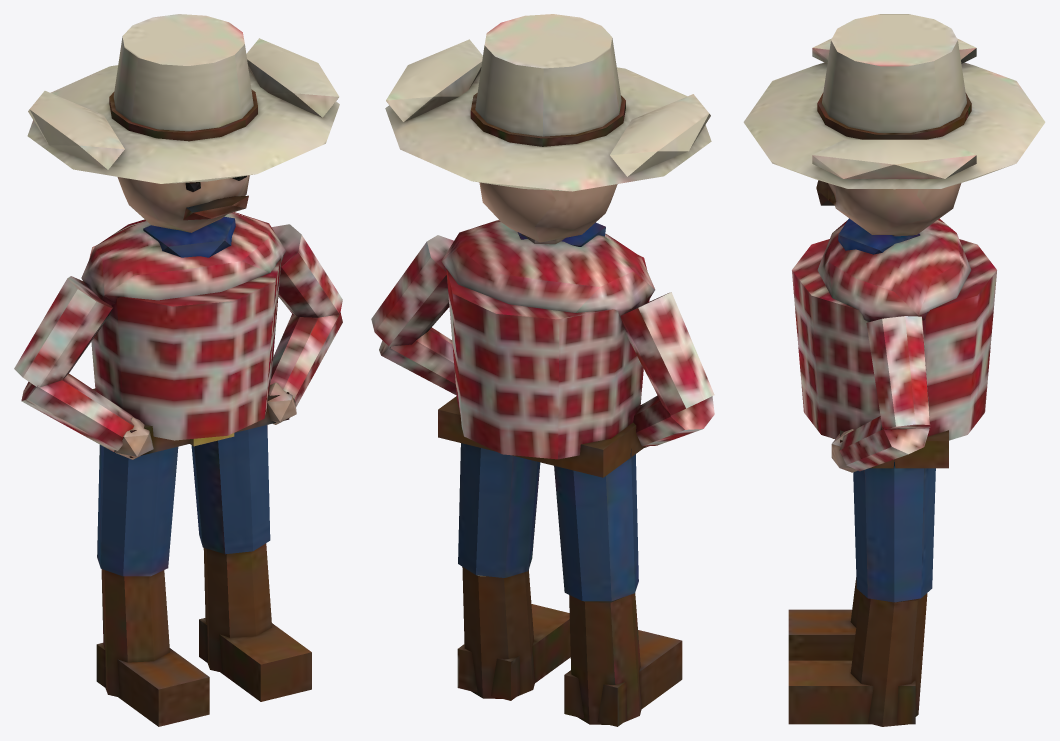
The model's file is bailarin_linea.glb.
3 views of the same model, side by side, from view 1: azimuth 30°, elevation 25°; view 2: azimuth 150°, elevation 25°; view 3: azimuth 270°, elevation 25° (orthographic). The views are drawn at different scales.
Parts seen in each view (by area): view 1: bailarin_linea; view 2: bailarin_linea; view 3: bailarin_linea.
Part boxes in pixels (x1=…): bailarin_linea: x1=14, y1=14, x2=342, y2=726; bailarin_linea: x1=371, y1=14, x2=714, y2=726; bailarin_linea: x1=743, y1=14, x2=1045, y2=726.
Size of the model in its own units: 1.25 by 2.37 by 1.
1 material, 1 textured.
